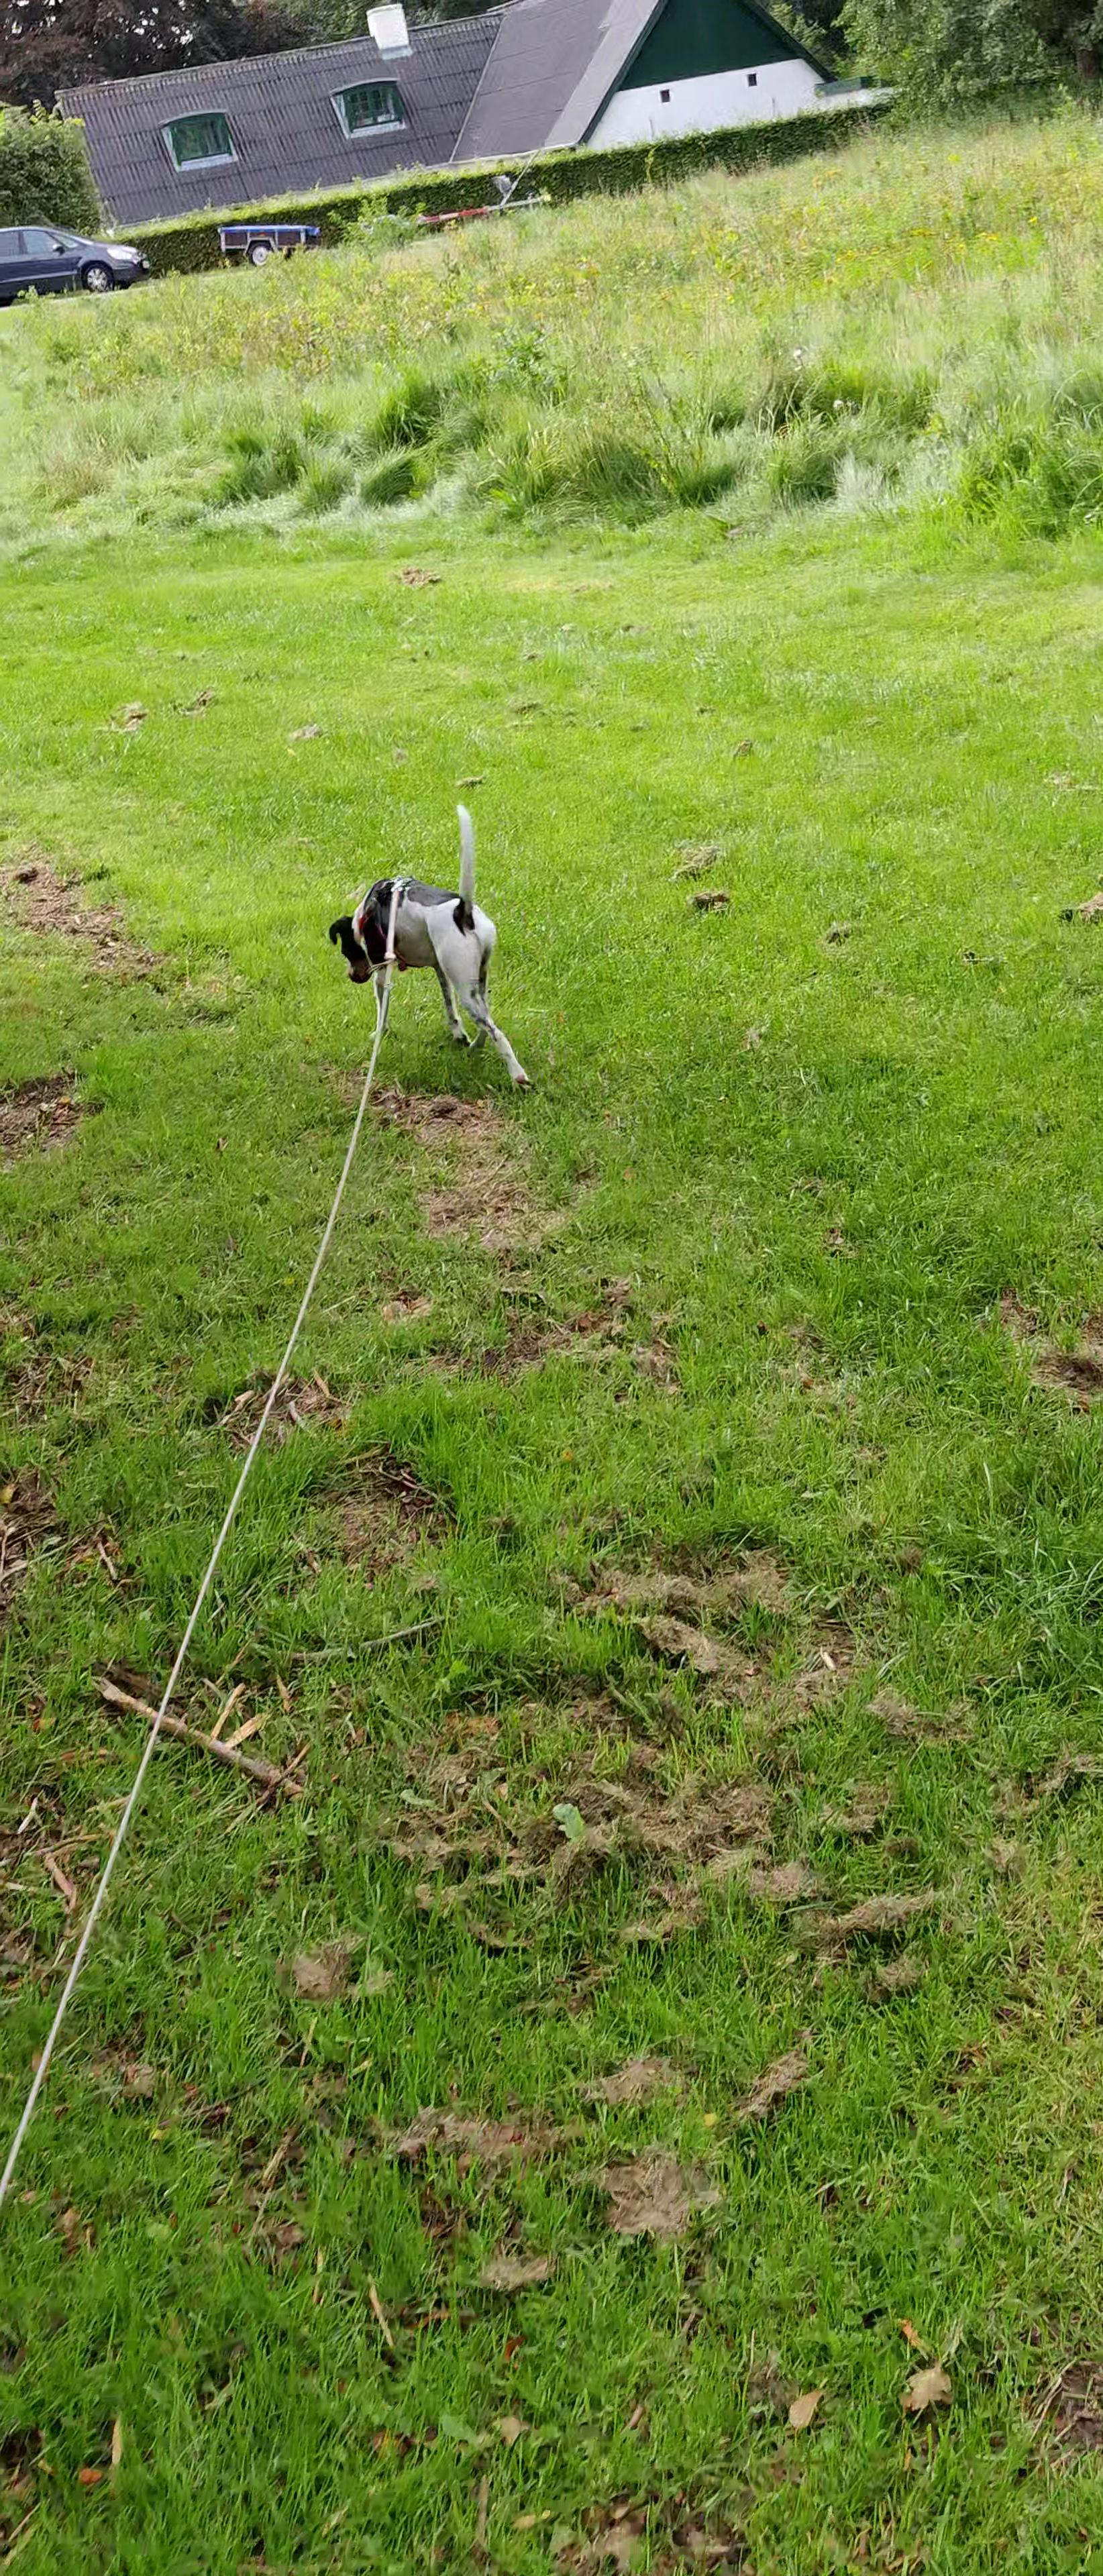Dog: (322, 798, 538, 1099)
